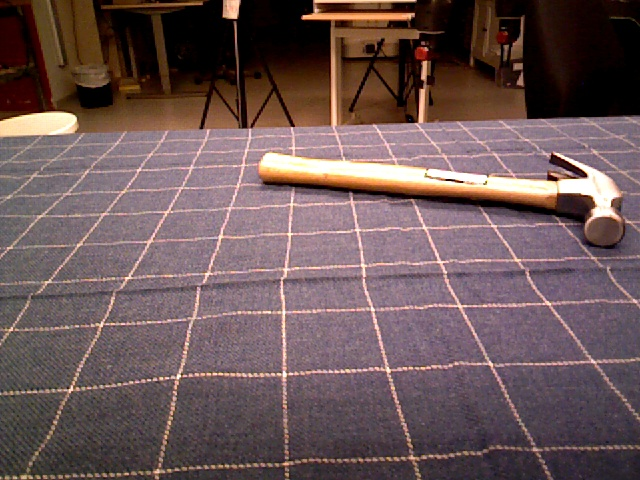hammer1: (259, 148, 627, 249)
